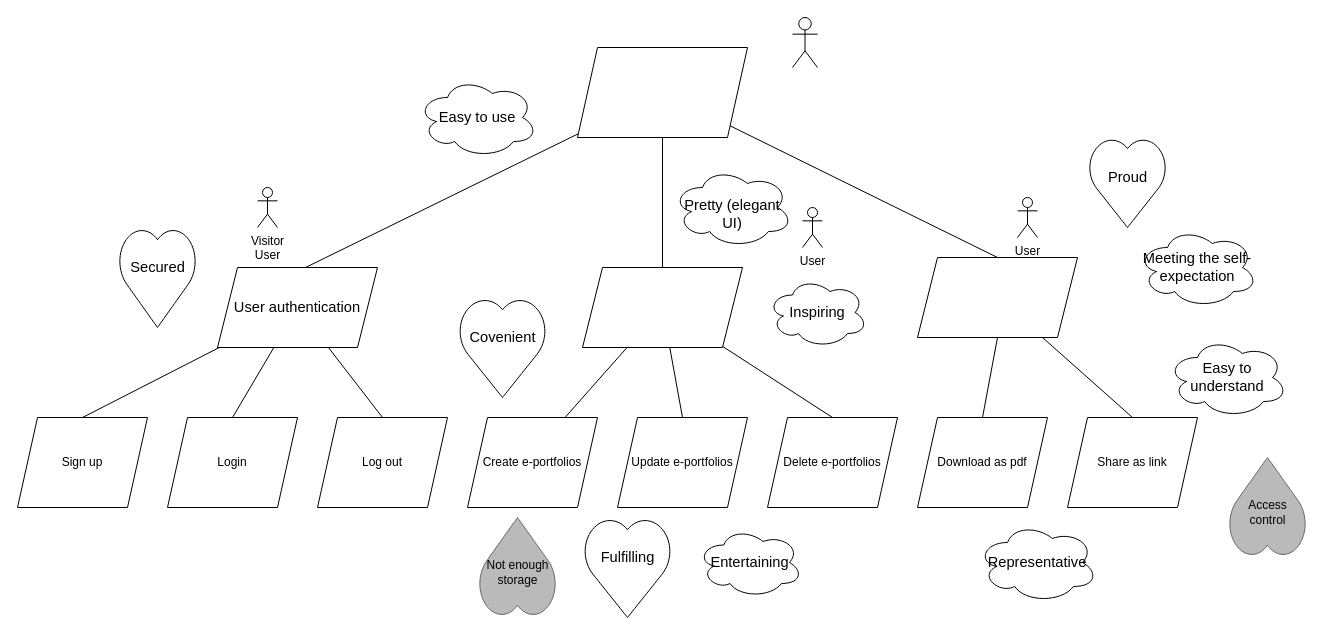
Some shapes in this 1330 by 635 pixel diagram are drawn without their labels. Here are the shapes that lost their labels. From the top down, the centre of each, then its label:
the point at 805,42: Viewer User Visitor
the point at 662,92: Support user share and store e-portfolis
the point at 662,307: E-portfolios collection
the point at 997,297: share e-portfolio
